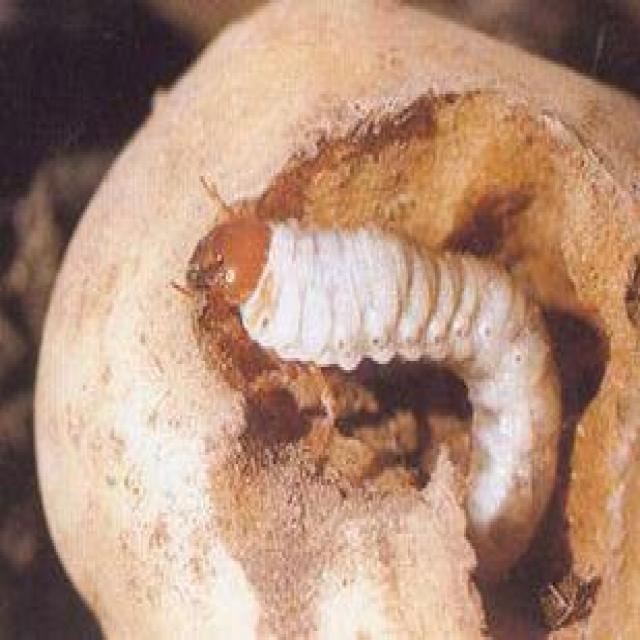Grub-Adult-: (175, 186, 582, 604)
